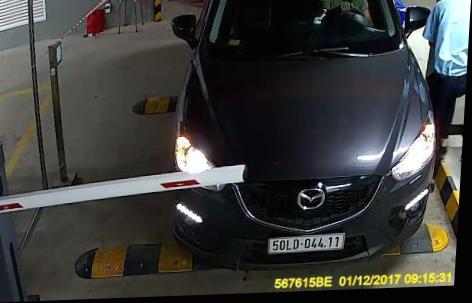License_Plate: (262, 231, 347, 253)
